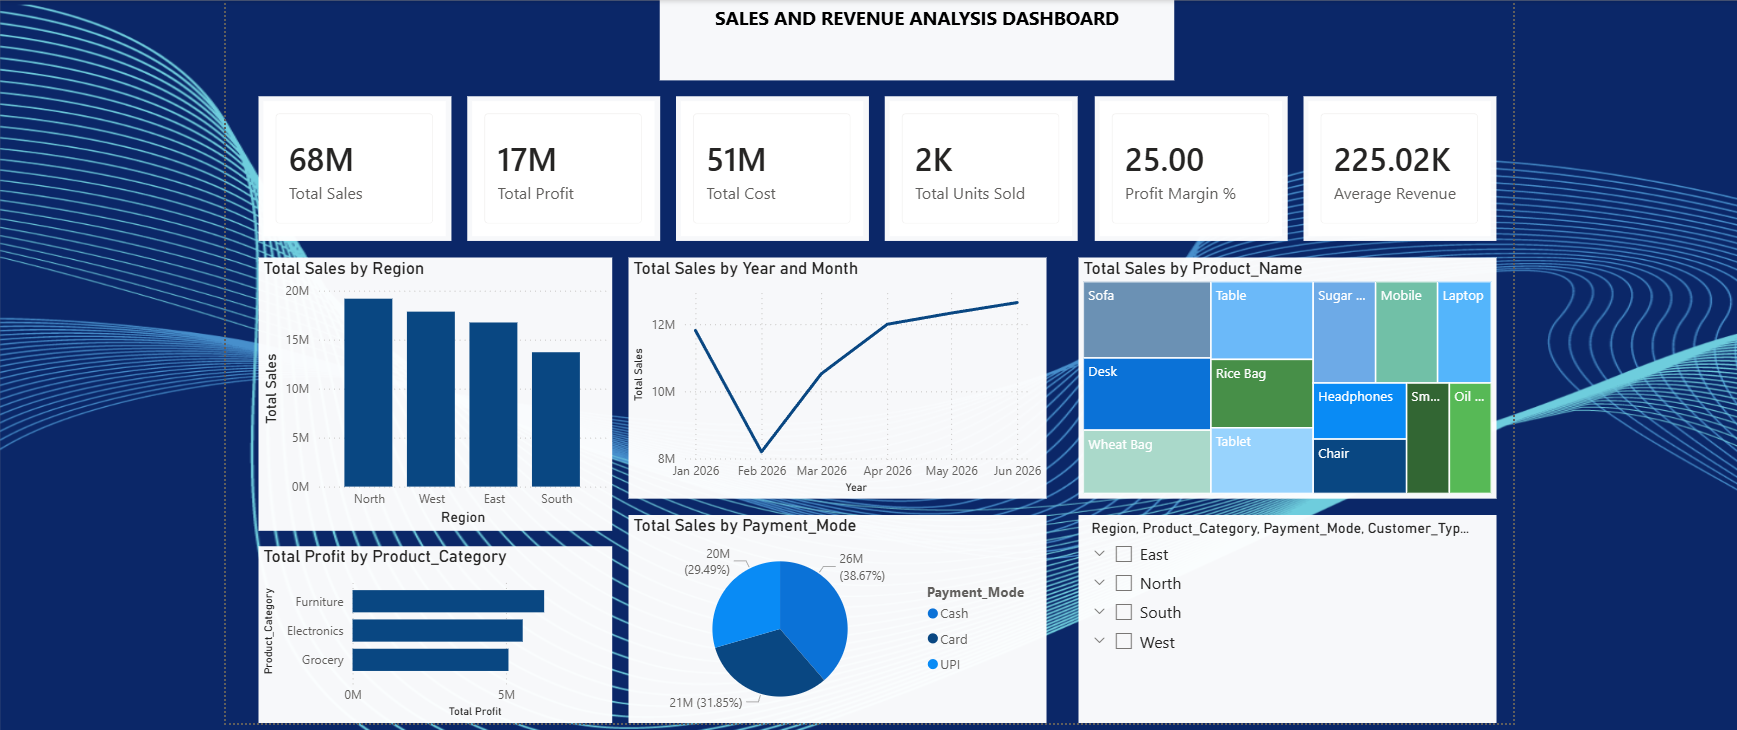

The dashboard page shown, as its layout file describes it:
{"tool":"powerbi","page":{"name":"DASHBOARD REPORT","canvas":[1280,720],"ordinal":0},"visuals":[{"type":"cardVisual","fields":{"Data":["Sales_Data.Total Sales"]},"box":[32,96,192,144],"z":0},{"type":"cardVisual","fields":{"Data":["Sales_Data.Total Profit"]},"box":[240,96,192,144],"z":1},{"type":"cardVisual","fields":{"Data":["Sales_Data.Total Cost"]},"box":[448,96,192,144],"z":2},{"type":"cardVisual","fields":{"Data":["Sales_Data.Total Units Sold"]},"box":[656,96,192,144],"z":3},{"type":"cardVisual","fields":{"Data":["Sales_Data.Profit Margin %"]},"box":[864,96,192,144],"z":4},{"type":"cardVisual","fields":{"Data":["Sales_Data.Average Revenue"]},"box":[1072,96,192,144],"z":5},{"type":"textbox","box":[432,0,512,80],"z":6},{"type":"clusteredColumnChart","fields":{"Category":["Sales_Data.Region"],"Y":["Sales_Data.Total Sales"]},"box":[32,256,352,272],"z":7},{"type":"barChart","fields":{"Category":["Sales_Data.Product_Category"],"Y":["Sales_Data.Total Profit"]},"box":[32,544,352,176],"z":8},{"type":"lineChart","fields":{"Category":["Sales_Data.Order_Date.Variation.Date Hierarchy.Year","Sales_Data.Order_Date.Variation.Date Hierarchy.Month"],"Y":["Sales_Data.Total Sales"]},"box":[400,256,416,240],"z":9},{"type":"treemap","fields":{"Group":["Sales_Data.Product_Name"],"Values":["Sales_Data.Total Sales"]},"box":[848,256,416,240],"z":10},{"type":"pieChart","fields":{"Category":["Sales_Data.Payment_Mode"],"Y":["Sales_Data.Total Sales"]},"box":[400,512,416,208],"z":11},{"type":"slicer","fields":{"Values":["Sales_Data.Region","Sales_Data.Product_Category","Sales_Data.Payment_Mode","Sales_Data.Customer_Type","Sales_Data.Order_Date"]},"box":[848,512,416,208],"z":12}]}

Visuals, with their boxes in screenshot pixels (x1, y1, x2, y2):
cardVisual - Sales_Data.Total Sales: [left=258, top=96, right=450, bottom=239]
cardVisual - Sales_Data.Total Profit: [left=466, top=96, right=657, bottom=239]
cardVisual - Sales_Data.Total Cost: [left=673, top=96, right=865, bottom=239]
cardVisual - Sales_Data.Total Units Sold: [left=881, top=96, right=1072, bottom=239]
cardVisual - Sales_Data.Profit Margin %: [left=1088, top=96, right=1280, bottom=239]
cardVisual - Sales_Data.Average Revenue: [left=1296, top=96, right=1487, bottom=239]
textbox: [left=657, top=0, right=1168, bottom=80]
clusteredColumnChart - Sales_Data.Region x Sales_Data.Total Sales: [left=258, top=255, right=609, bottom=527]
barChart - Sales_Data.Product_Category x Sales_Data.Total Profit: [left=258, top=543, right=609, bottom=718]
lineChart - Sales_Data.Order_Date.Variation.Date Hierarchy.Year x Sales_Data.Order_Date.Variation.Date Hierarchy.Month: [left=625, top=255, right=1040, bottom=495]
treemap - Sales_Data.Product_Name x Sales_Data.Total Sales: [left=1072, top=255, right=1487, bottom=495]
pieChart - Sales_Data.Payment_Mode x Sales_Data.Total Sales: [left=625, top=511, right=1040, bottom=718]
slicer - Sales_Data.Region x Sales_Data.Product_Category: [left=1072, top=511, right=1487, bottom=718]
